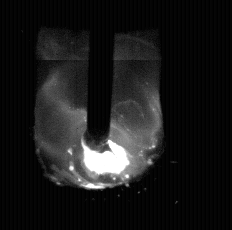arame: (88, 0, 112, 153)
poca: (32, 0, 164, 230)
